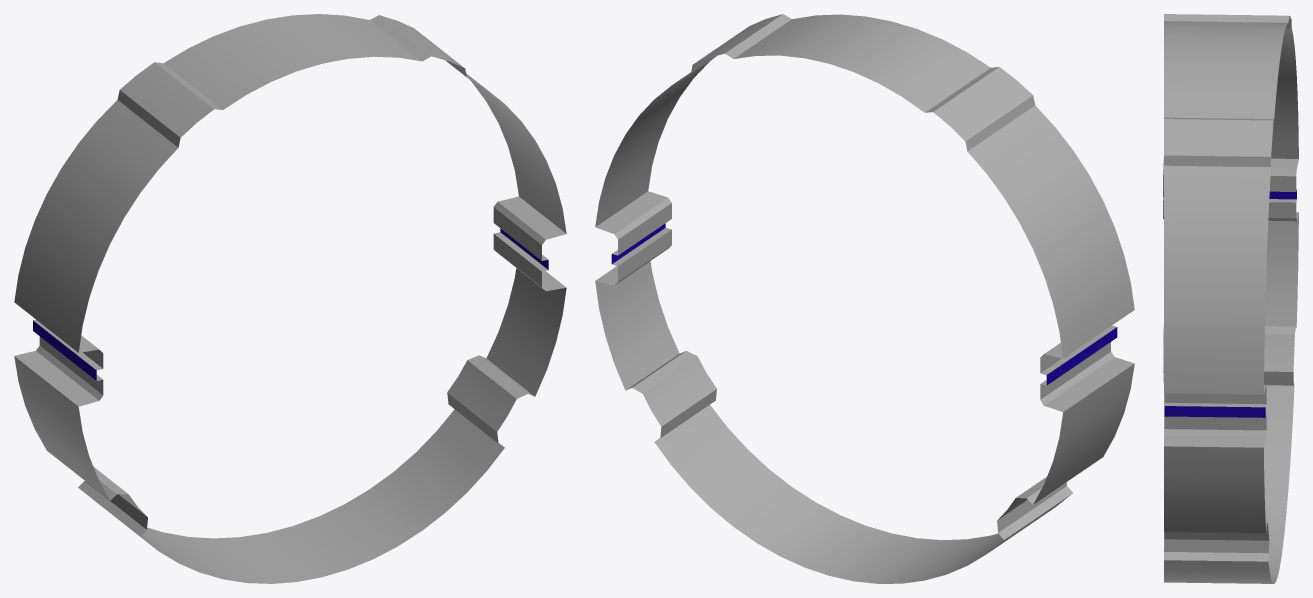
Rendered from Geo_Rohr_Mod2.fbx.
3 views of the same model, side by side, from view 1: azimuth 30°, elevation 25°; view 2: azimuth 150°, elevation 25°; view 3: azimuth 270°, elevation 25° (orthographic).
Visible parts, largest first — view 1: Rohr_mod_1_1; view 2: Rohr_mod_1_1; view 3: Rohr_mod_1_1.
Part boxes in pixels (x1,y1,x2,y2): Rohr_mod_1_1: (14,14,566,583); Rohr_mod_1_1: (595,14,1134,583); Rohr_mod_1_1: (1163,14,1298,583).
Size of the model in its own units: 300 by 300 by 72.63.
